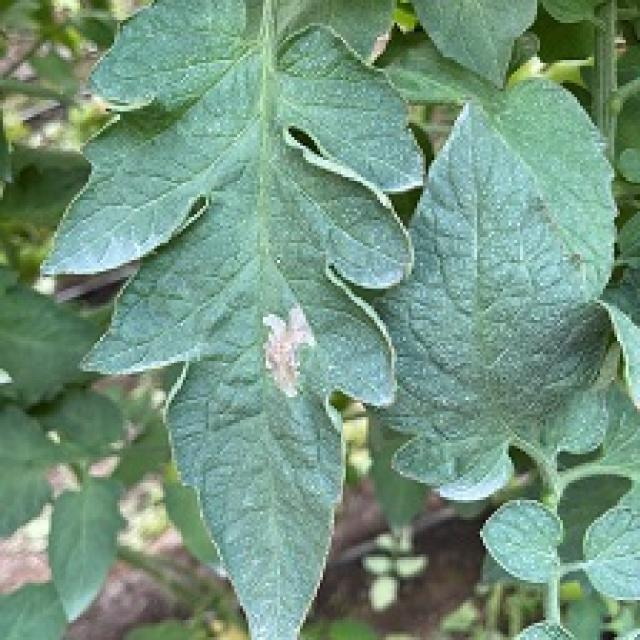Healthy: (302, 84, 640, 518)
Tuta absoluta: (261, 305, 317, 399)
